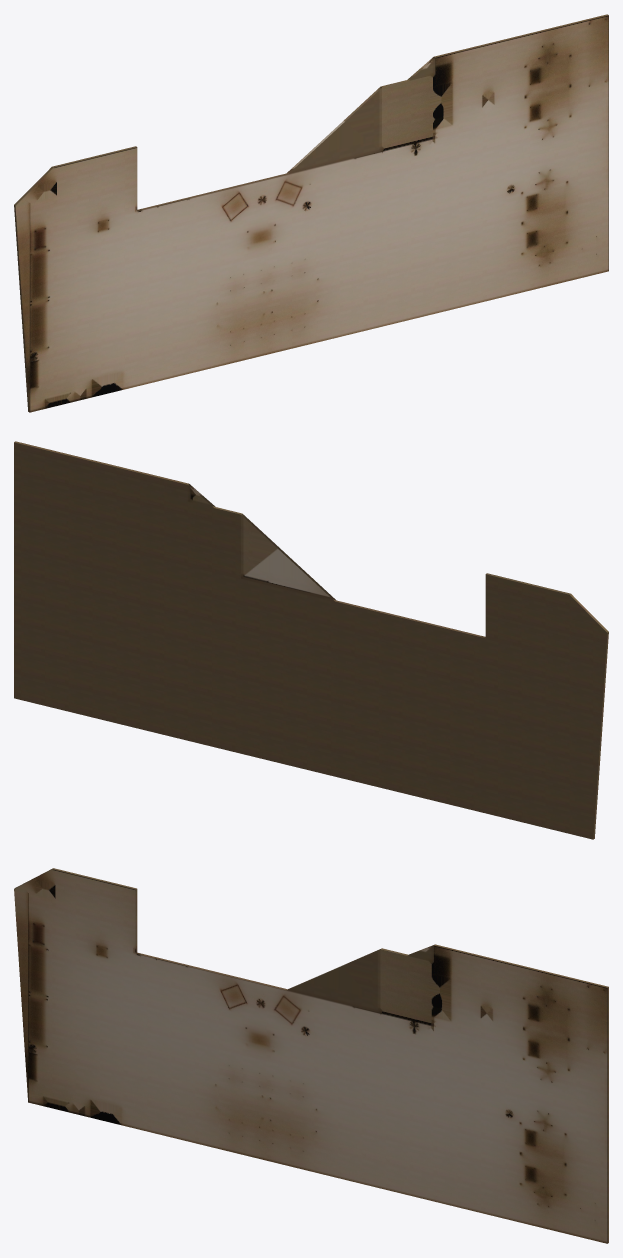
Rendered from office_floor.obj.
The picture shows the model from 3 angles, top to bottom: view 1: azimuth 30°, elevation 25°; view 2: azimuth 150°, elevation 25°; view 3: azimuth 330°, elevation 25°; orthographic projection.
Parts seen in each view (by area): view 1: BAKE_floor; view 2: BAKE_floor; view 3: BAKE_floor.
Boxes of the visible parts, x1,y1,x2,y2 form: BAKE_floor: [14, 14, 608, 412]; BAKE_floor: [14, 441, 608, 839]; BAKE_floor: [14, 868, 608, 1243].
Bounding box in the file's own units: 18.44 × 7.6 × 0.08.
1 material, 1 textured.
